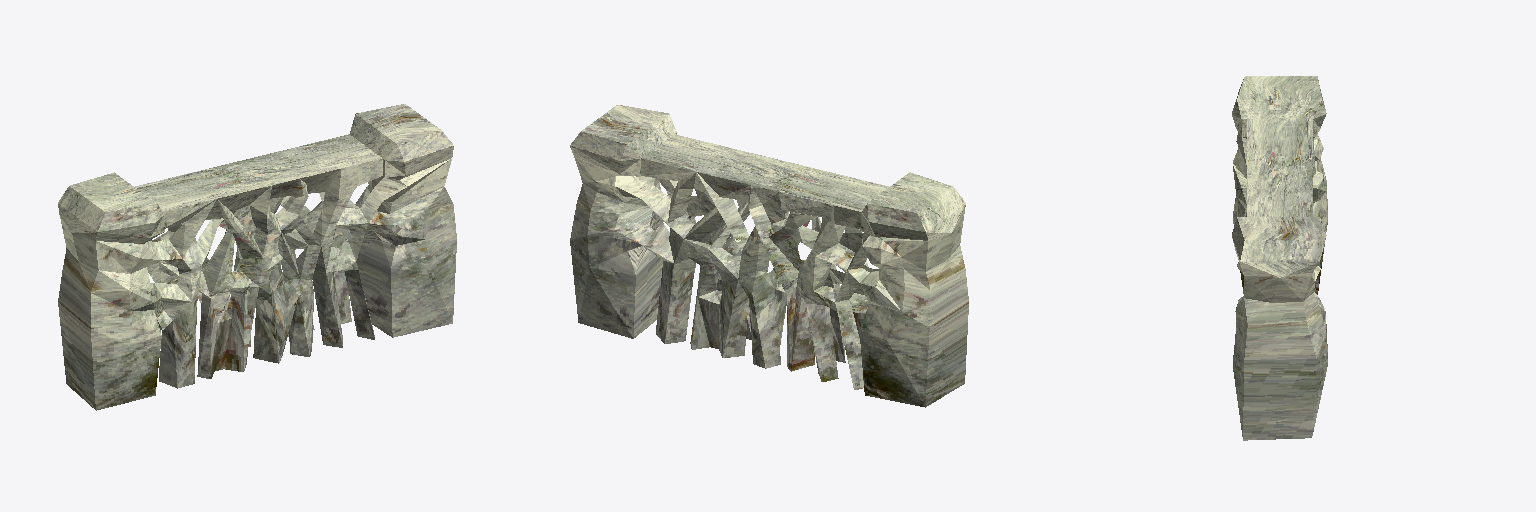
3 views of the same model, side by side, from view 1: azimuth 30°, elevation 25°; view 2: azimuth 150°, elevation 25°; view 3: azimuth 270°, elevation 25° (orthographic).
Visible parts, largest first — view 1: Mesh_0212_Mesh_0212.rip_mesh0000, Mesh_0209_Mesh_0209.rip_mesh0000, Mesh_0213_Mesh_0213.rip_mesh0000, Mesh_0210_Mesh_0210.rip_mesh0000; view 2: Mesh_0212_Mesh_0212.rip_mesh0000, Mesh_0209_Mesh_0209.rip_mesh0000, Mesh_0213_Mesh_0213.rip_mesh0000, Mesh_0210_Mesh_0210.rip_mesh0000; view 3: Mesh_0209_Mesh_0209.rip_mesh0000, Mesh_0210_Mesh_0210.rip_mesh0000, Mesh_0213_Mesh_0213.rip_mesh0000.
Boxes of the visible parts, box(x1,y1,x2,y2) form: Mesh_0212_Mesh_0212.rip_mesh0000: box(147, 158, 382, 388); Mesh_0209_Mesh_0209.rip_mesh0000: box(58, 130, 456, 410); Mesh_0213_Mesh_0213.rip_mesh0000: box(135, 134, 381, 211); Mesh_0210_Mesh_0210.rip_mesh0000: box(58, 104, 440, 240); Mesh_0212_Mesh_0212.rip_mesh0000: box(639, 158, 882, 389); Mesh_0209_Mesh_0209.rip_mesh0000: box(570, 131, 968, 407); Mesh_0213_Mesh_0213.rip_mesh0000: box(642, 134, 888, 211); Mesh_0210_Mesh_0210.rip_mesh0000: box(582, 105, 965, 240); Mesh_0209_Mesh_0209.rip_mesh0000: box(1232, 79, 1327, 440); Mesh_0210_Mesh_0210.rip_mesh0000: box(1237, 76, 1321, 277); Mesh_0213_Mesh_0213.rip_mesh0000: box(1247, 119, 1312, 216).
Bounding box in the file's own units: 257 × 130 × 58.52.
Materials: 6 (1 with a texture image).